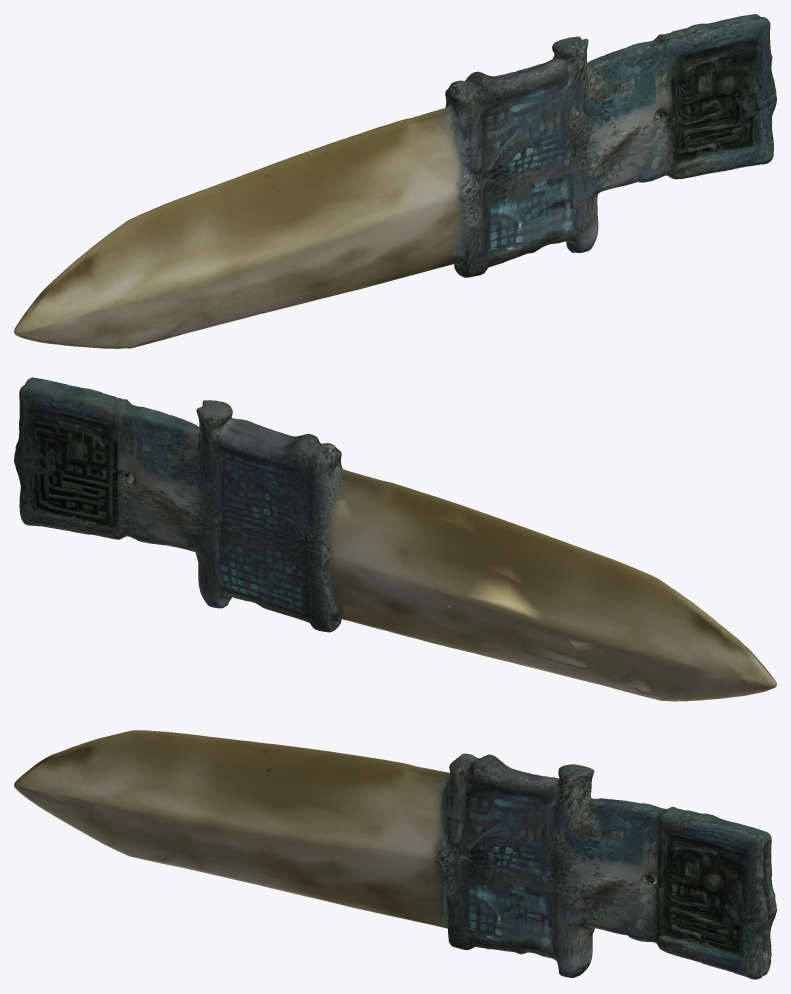
File: turquoise-ge-roaming.glb
3 renders of one model, top to bottom at view 1: azimuth 30°, elevation 25°; view 2: azimuth 150°, elevation 25°; view 3: azimuth 330°, elevation 25°, orthographic.
Parts seen in each view (by area): view 1: node_0; view 2: node_0; view 3: node_0.
Boxes of the visible parts, left/top/right/bottom form: node_0: left=14, top=14, right=776, bottom=348; node_0: left=14, top=377, right=776, bottom=701; node_0: left=14, top=730, right=776, bottom=979.
Bounding box in the file's own units: 1.19 × 0.3102 × 0.072.
1 material, 1 textured.
